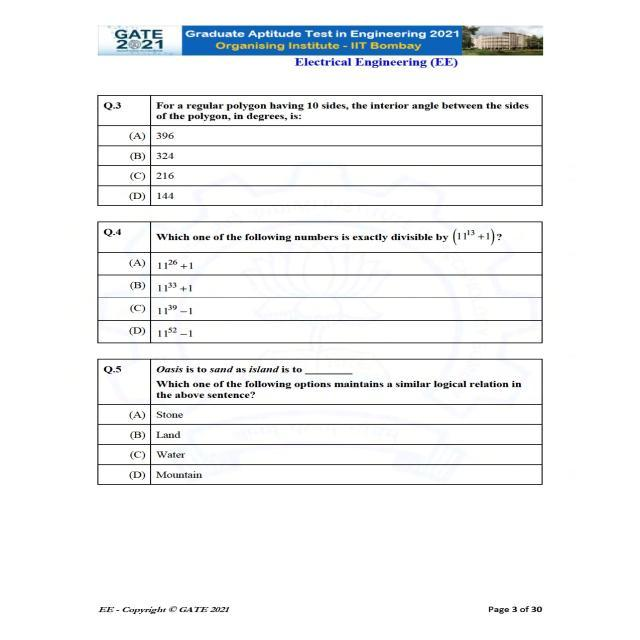Answer_Block: (97, 256, 542, 341), (97, 125, 542, 207), (97, 405, 542, 486)
Question_Answer_Block: (97, 360, 542, 486), (97, 221, 542, 341), (97, 94, 542, 208)
Question_Block: (97, 360, 542, 406), (97, 94, 542, 128), (97, 221, 542, 254)
Question_Paper_Area: (97, 94, 542, 486)
